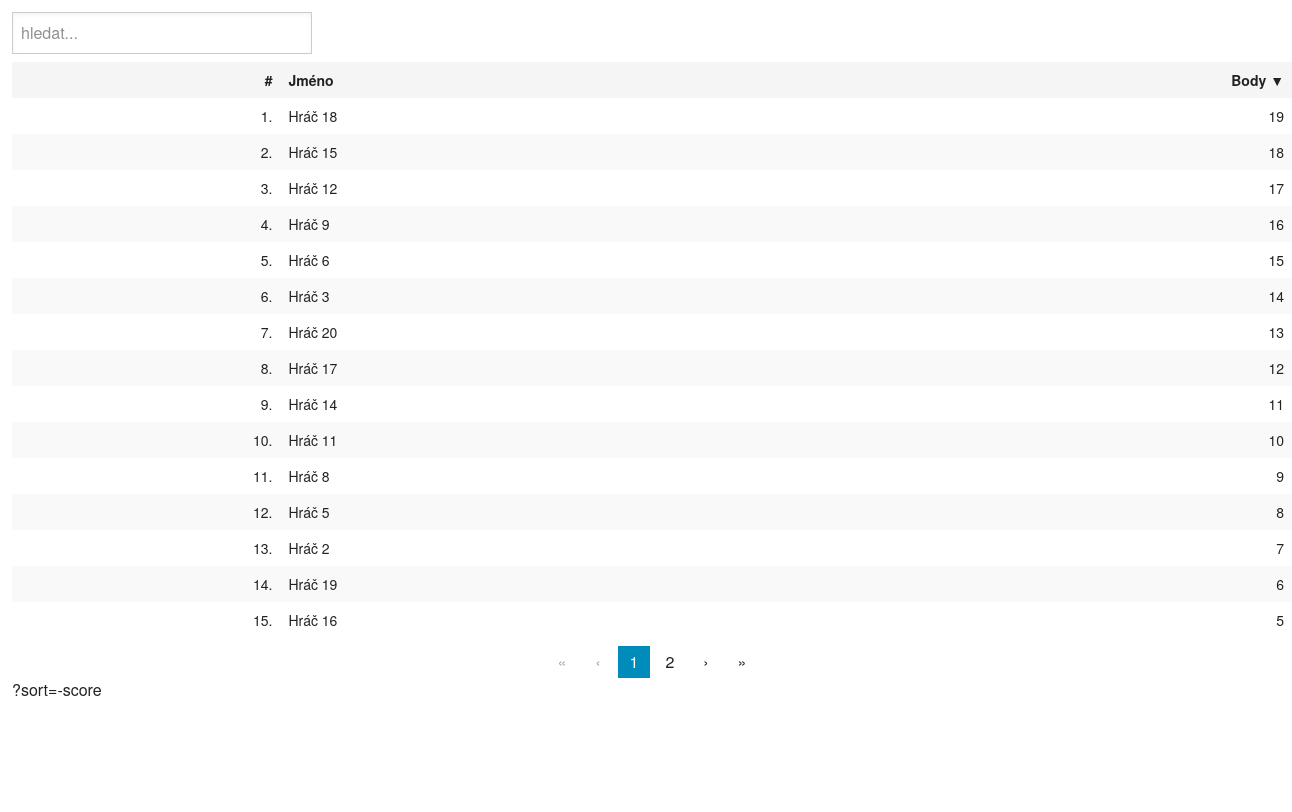
Test case: rank 'beforeSearch' keeps overall rank while searching
Type "pepa" into the field with placeholder "hledat..." at x=162, y=33, box [12,12,312,54]
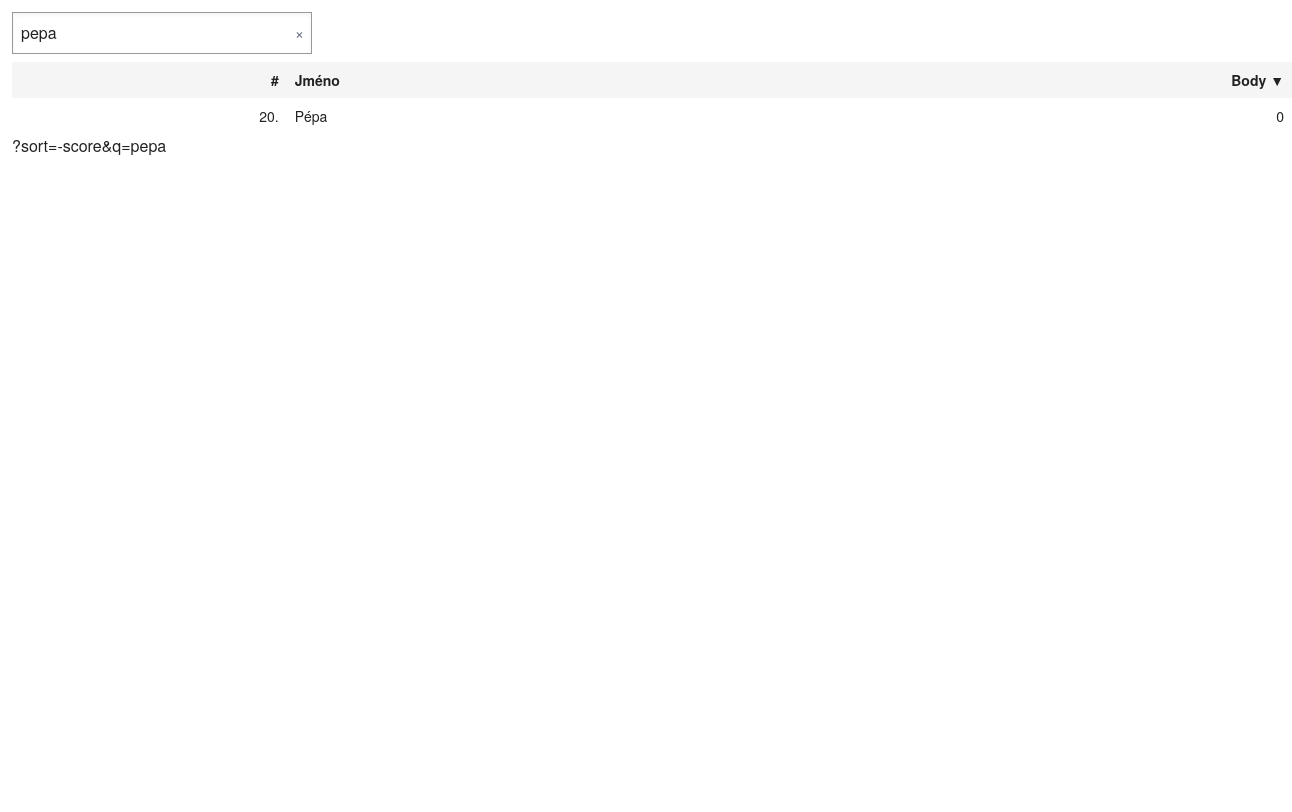
Now the cell "20." is shown, box [12,98,287,134]
